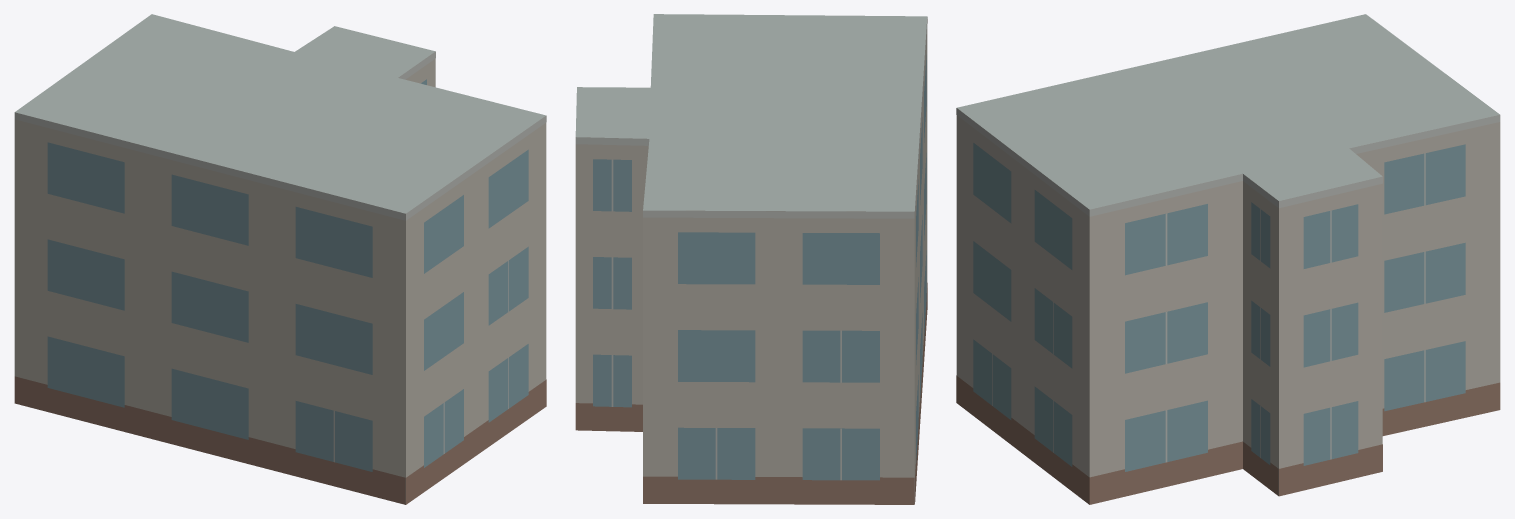
File: survey-upis-32470978.glb
3 renders of one model, left to right at view 1: azimuth 30°, elevation 25°; view 2: azimuth 150°, elevation 25°; view 3: azimuth 270°, elevation 25°, orthographic.
Visible parts, largest first — view 1: survey-upis-32470978.tmp; view 2: survey-upis-32470978.tmp; view 3: survey-upis-32470978.tmp.
Boxes of the visible parts, x1,y1,x2,y2 form: survey-upis-32470978.tmp: (14,14,546,504); survey-upis-32470978.tmp: (575,14,927,504); survey-upis-32470978.tmp: (956,14,1500,504).
Bounding box in the file's own units: 14.37 × 10.1 × 16.87.
